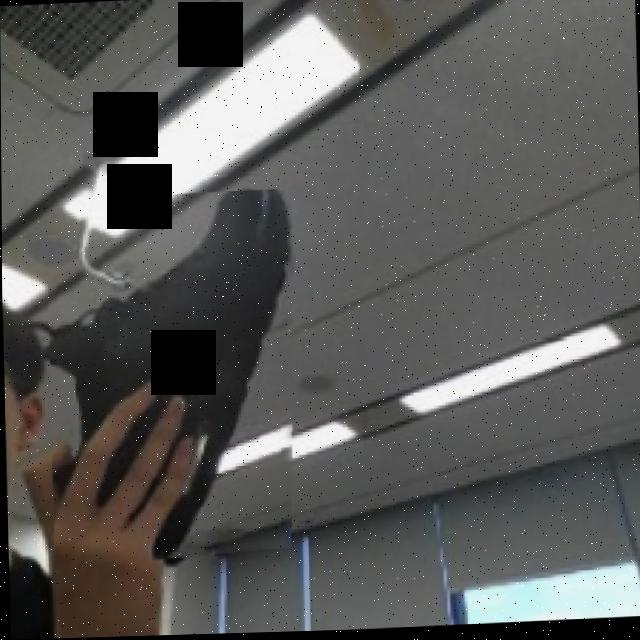shoe: (45, 189, 302, 570)
